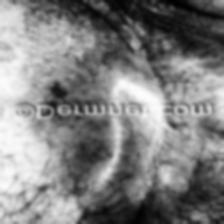Toxin: (17, 4, 107, 100), (0, 37, 17, 65)
